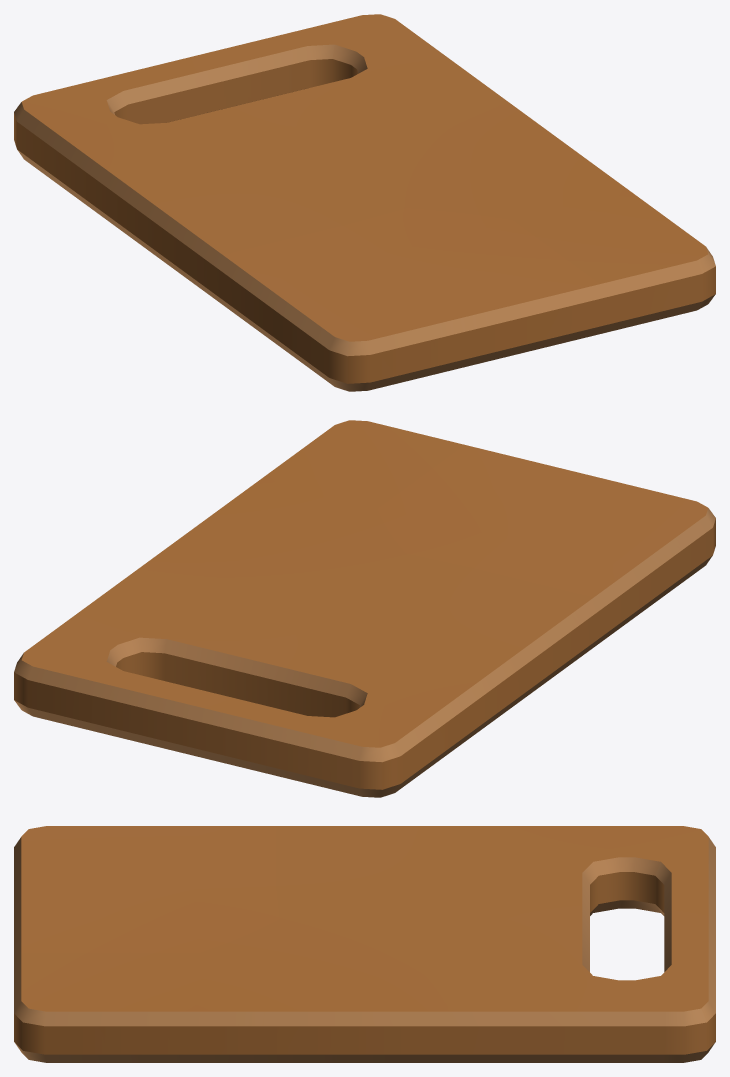
Rendered from CuttingBoard_1_B.glb.
3 views of the same model, one above another, from view 1: azimuth 30°, elevation 25°; view 2: azimuth 150°, elevation 25°; view 3: azimuth 270°, elevation 25° (orthographic). The views are drawn at different scales.
Visible parts, largest first — view 1: CuttingBoard_1_B; view 2: CuttingBoard_1_B; view 3: CuttingBoard_1_B.
Part boxes in pixels (left/top/right/bottom): CuttingBoard_1_B: left=14, top=14, right=715, bottom=391; CuttingBoard_1_B: left=14, top=420, right=715, bottom=797; CuttingBoard_1_B: left=14, top=826, right=715, bottom=1062.
Bounding box in the file's own units: 0.4013 × 0.05 × 0.6203.
Materials: 1 (1 with a texture image).
